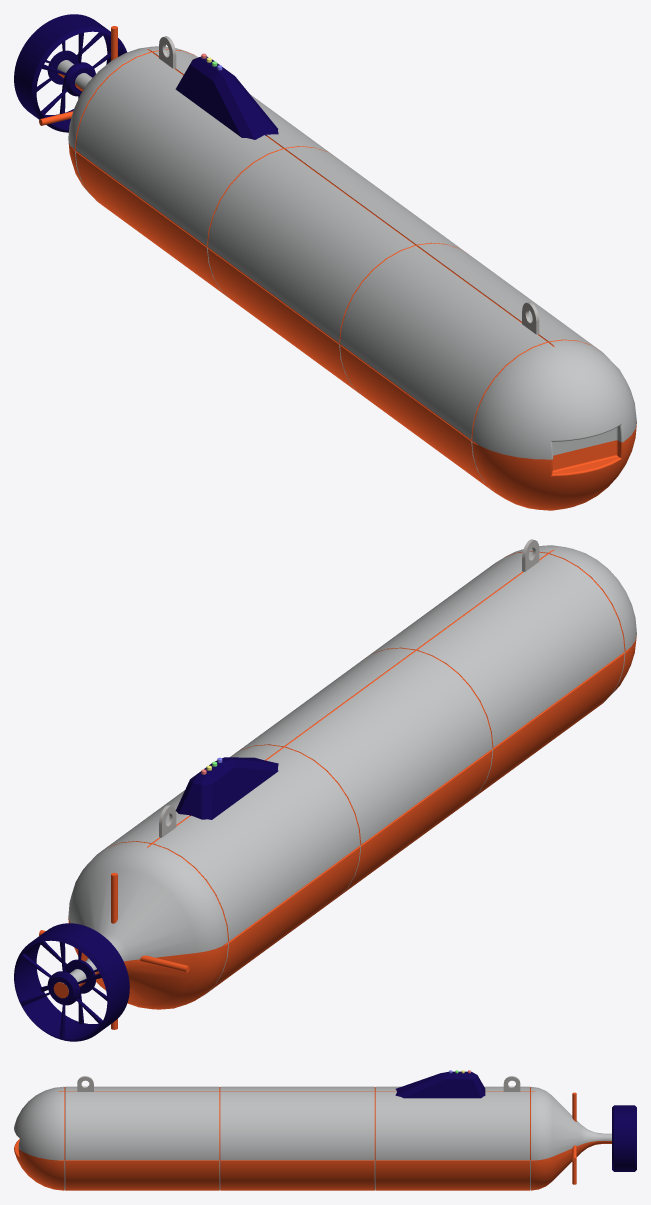
The model's file is body.obj.
3 views of the same model, one above another, from view 1: azimuth 30°, elevation 25°; view 2: azimuth 150°, elevation 25°; view 3: azimuth 270°, elevation 25° (orthographic). The views are drawn at different scales.
Parts seen in each view (by area): view 1: body_top, body_bottom, prop_cover, comm_tower, hooks; view 2: body_top, body_bottom, prop_cover, comm_tower, hooks, rudder_posts; view 3: body_top, body_bottom, comm_tower, prop_cover, hooks, rudder_posts.
Part boxes in pixels (box(x1,y1,x2,y2)): body_top: box(57, 46, 636, 459); body_bottom: box(58, 73, 636, 510); prop_cover: box(14, 14, 127, 132); comm_tower: box(175, 56, 278, 139); hooks: box(159, 36, 539, 334); body_top: box(54, 545, 636, 991); body_bottom: box(53, 636, 636, 1009); prop_cover: box(14, 923, 129, 1041); comm_tower: box(175, 757, 278, 819); hooks: box(159, 539, 539, 837); rudder_posts: box(39, 872, 189, 1029); body_top: box(14, 1086, 611, 1160); body_bottom: box(14, 1139, 611, 1190); comm_tower: box(395, 1071, 485, 1098); prop_cover: box(612, 1105, 636, 1171); hooks: box(77, 1076, 520, 1091); rudder_posts: box(572, 1092, 576, 1184).
Size of the model in its own units: 0.5 by 0.61 by 2.99.
